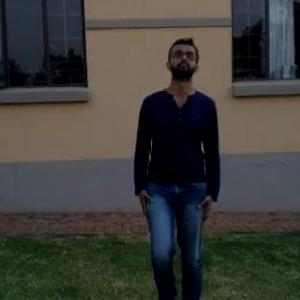follow: (130, 25, 226, 293)
